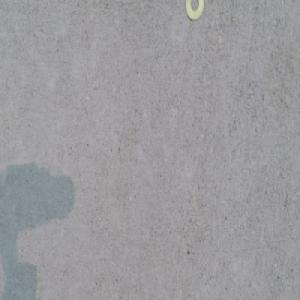Washer: (186, 0, 203, 20)
